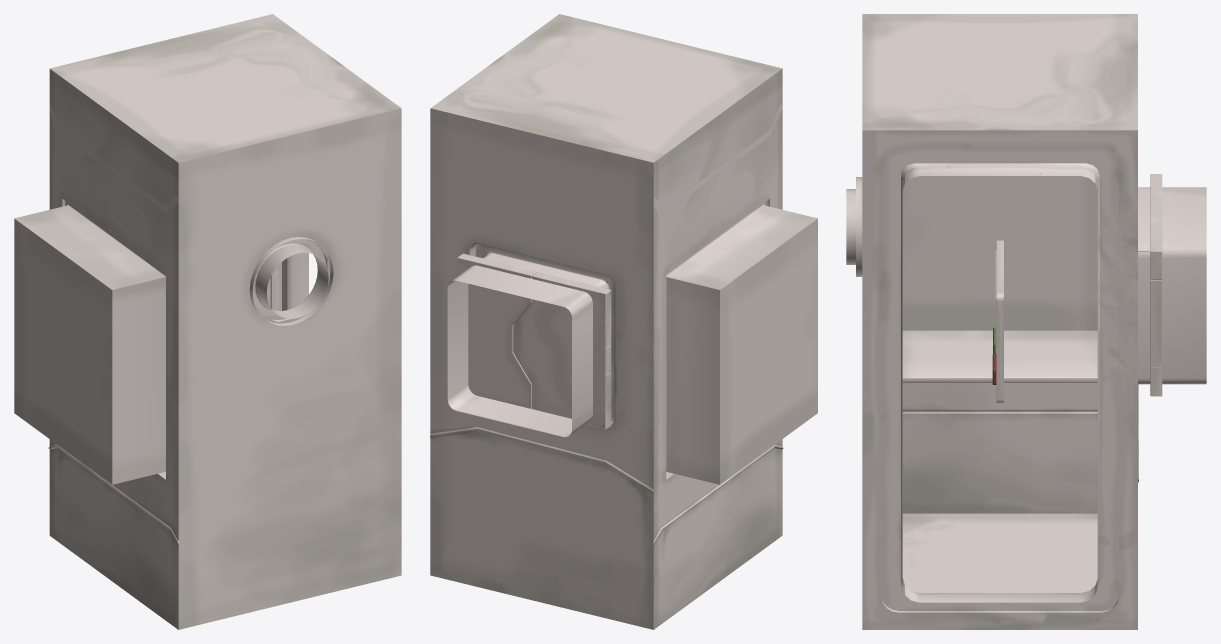
The model's file is Room.glb.
3 renders of one model, left to right at view 1: azimuth 30°, elevation 25°; view 2: azimuth 150°, elevation 25°; view 3: azimuth 270°, elevation 25°, orthographic. The views are drawn at different scales.
Parts seen in each view (by area): view 1: Wall2, Wall1, Floor, Wall4, Computer; view 2: Wall3, Wall1, Floor, LeftDoor, RightDoor; view 3: Wall1, Wall4, Floor, Wall3, RightDoor, Wall2, Computer, LeftDoor.
Boxes of the visible parts, x1=… form: Wall2: x1=178, y1=108, x2=401, y2=629; Wall1: x1=14, y1=69, x2=178, y2=629; Floor: x1=50, y1=14, x2=400, y2=543; Wall4: x1=282, y1=252, x2=308, y2=310; Computer: x1=266, y1=262, x2=281, y2=310; Wall3: x1=430, y1=108, x2=653, y2=629; Wall1: x1=653, y1=68, x2=817, y2=629; Floor: x1=431, y1=14, x2=782, y2=543; LeftDoor: x1=513, y1=272, x2=611, y2=429; RightDoor: x1=457, y1=253, x2=536, y2=408; Wall1: x1=902, y1=176, x2=1097, y2=513; Wall4: x1=862, y1=130, x2=1137, y2=629; Floor: x1=862, y1=14, x2=1137, y2=592; Wall3: x1=1138, y1=187, x2=1206, y2=482; RightDoor: x1=1150, y1=212, x2=1162, y2=396; Wall2: x1=846, y1=177, x2=862, y2=276; Computer: x1=995, y1=240, x2=1003, y2=403; LeftDoor: x1=1150, y1=174, x2=1162, y2=212.
Bounding box in the file's own units: 7.84 × 12 × 7.85.
2 materials, 2 textured.
